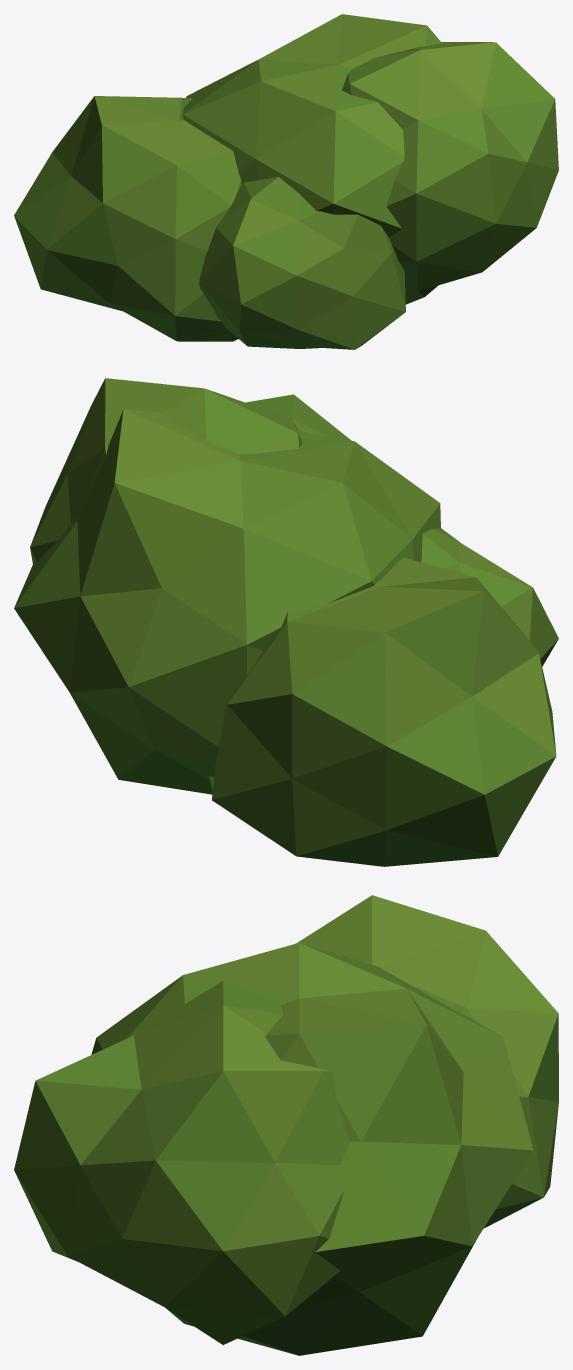
The picture shows the model from 3 angles, top to bottom: view 1: azimuth 30°, elevation 25°; view 2: azimuth 150°, elevation 25°; view 3: azimuth 270°, elevation 25°; orthographic projection. The views are drawn at different scales.
Parts seen in each view (by area): view 1: bush_b_leafy; view 2: bush_b_leafy; view 3: bush_b_leafy.
Part boxes in pixels (x1,y1,x2,y2): bush_b_leafy: [14, 14, 558, 349]; bush_b_leafy: [14, 378, 558, 866]; bush_b_leafy: [14, 895, 558, 1355].
Bounding box in the file's own units: 1.47 × 0.9023 × 1.13.
